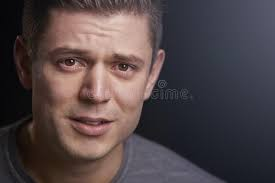s.white: (107, 74, 144, 124)
